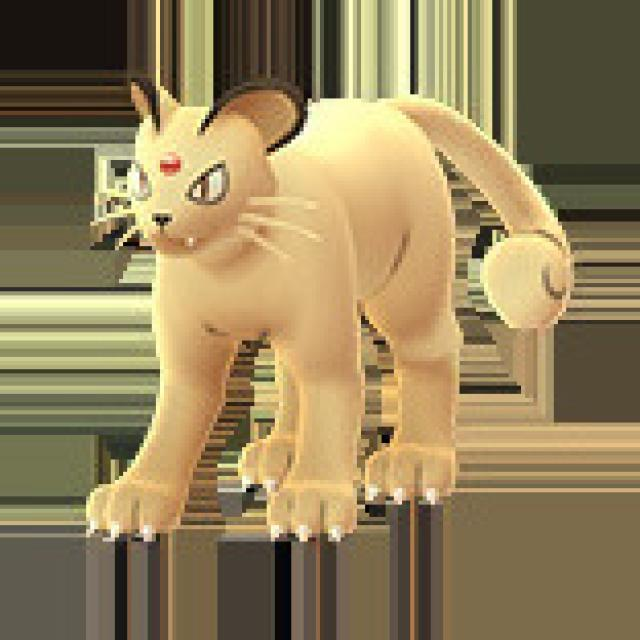Persian: (118, 83, 496, 556)
